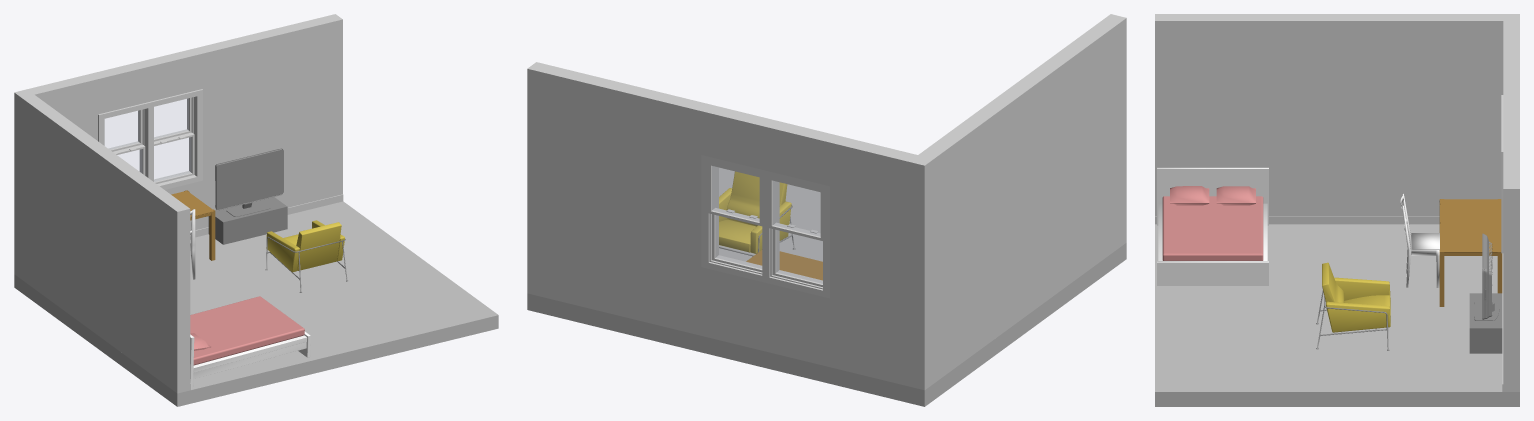
File: L14_W16_furniture3_circulation3.glb
The picture shows the model from 3 angles, left to right: view 1: azimuth 30°, elevation 25°; view 2: azimuth 150°, elevation 25°; view 3: azimuth 270°, elevation 25°; orthographic projection. The views are drawn at different scales.
Size of the model in its own units: 200 by 116 by 176.
